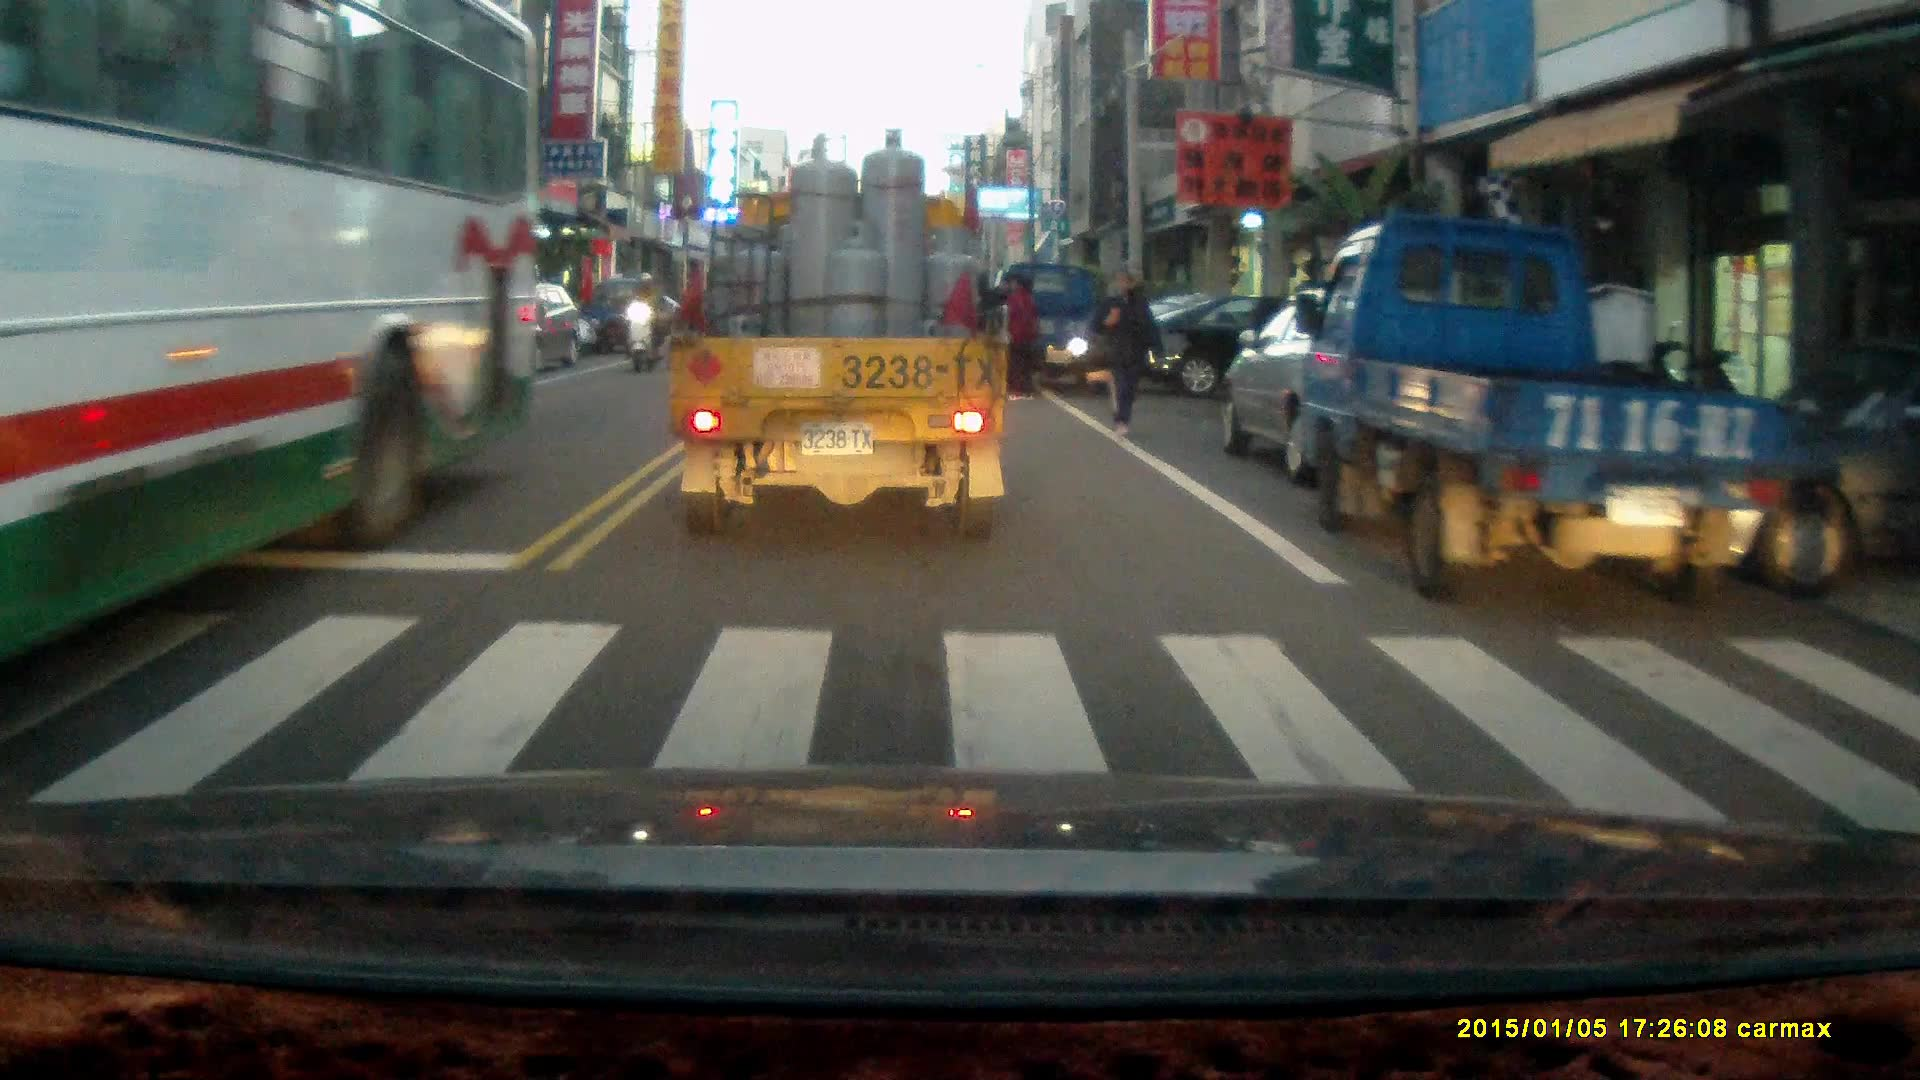pedestrian: (1093, 270, 1162, 436), (1002, 271, 1038, 400)
rider: (624, 269, 667, 375)
vehicle: (1, 3, 546, 674), (1293, 211, 1786, 607), (669, 126, 1014, 544), (1217, 280, 1512, 491), (1138, 286, 1388, 405), (992, 261, 1124, 395), (459, 281, 586, 375), (578, 277, 669, 360)
